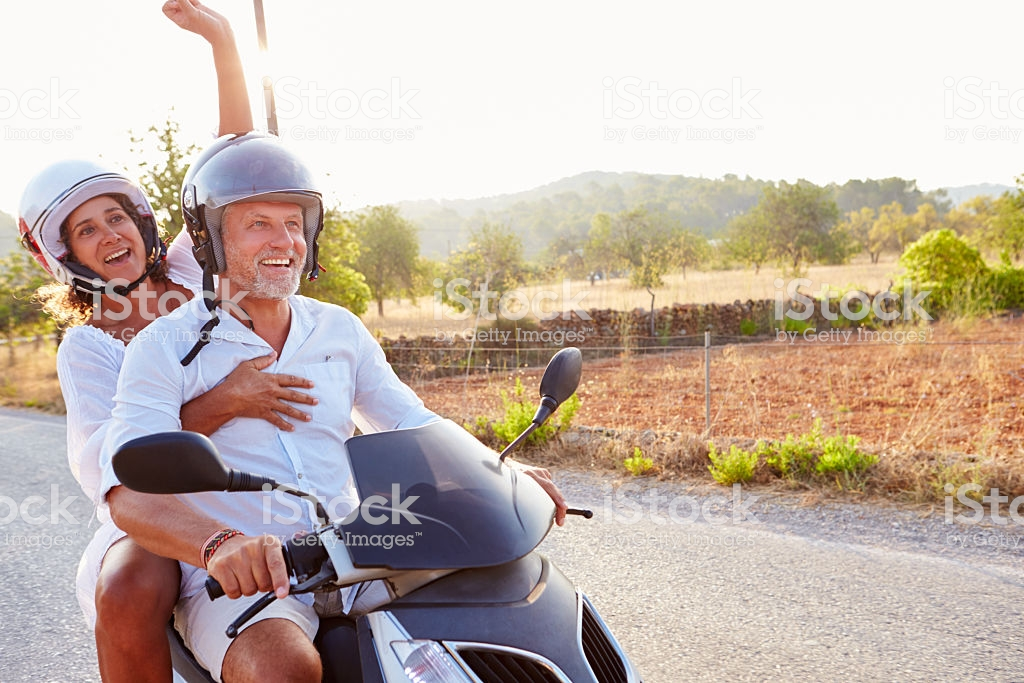helmet: (182, 127, 336, 237), (12, 152, 156, 264)
